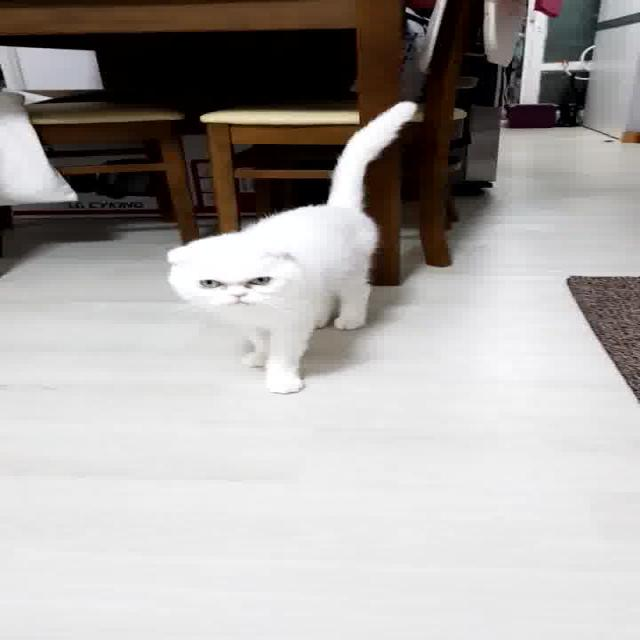cat: (153, 100, 439, 399)
